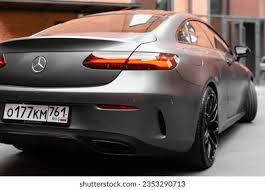mercedes: (31, 56, 45, 73)
